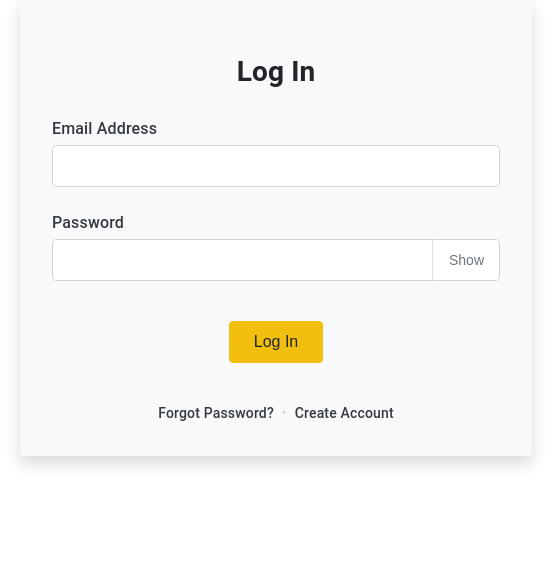
LoginForm › validates email format
# Type invalid email
Type "invalid-email" into the field labelled "Email Address" at point(276, 166), box [52,145,500,187]
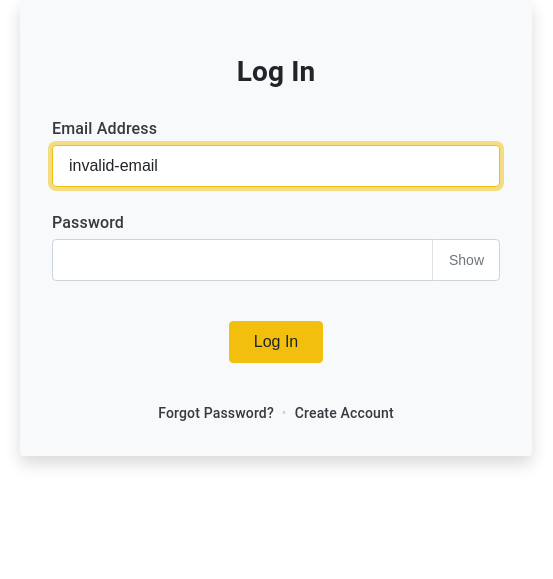
# Submit form
Click the button "Log In" at point(276, 342), box [229,321,323,363]
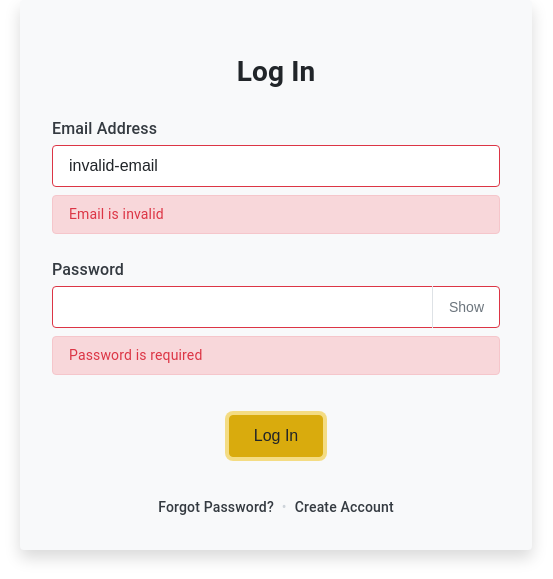
Check: the text "Email is invalid" is shown, box [52,195,500,234]
